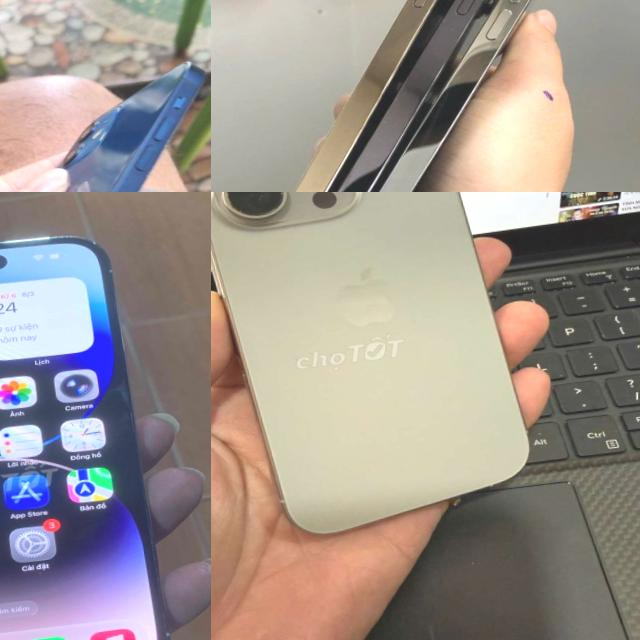gen_12_13: (0, 53, 211, 192)
gen_14: (0, 218, 184, 640), (294, 0, 445, 192)
gen_16: (211, 192, 546, 548)
